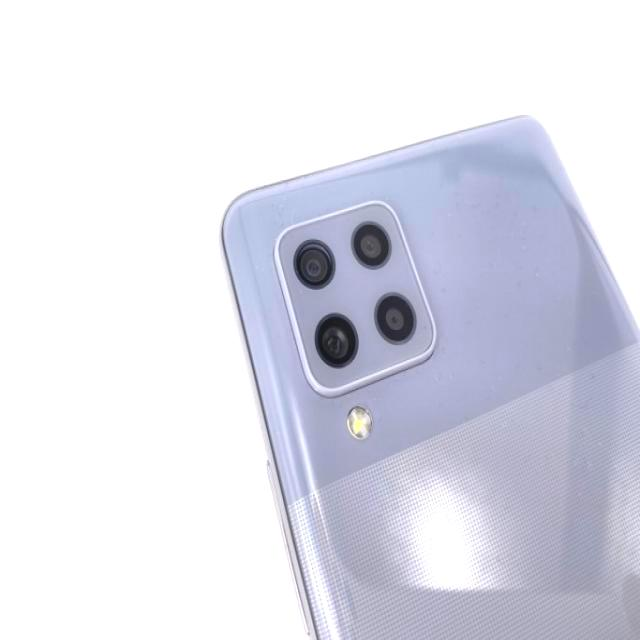phone: (210, 113, 640, 639)
